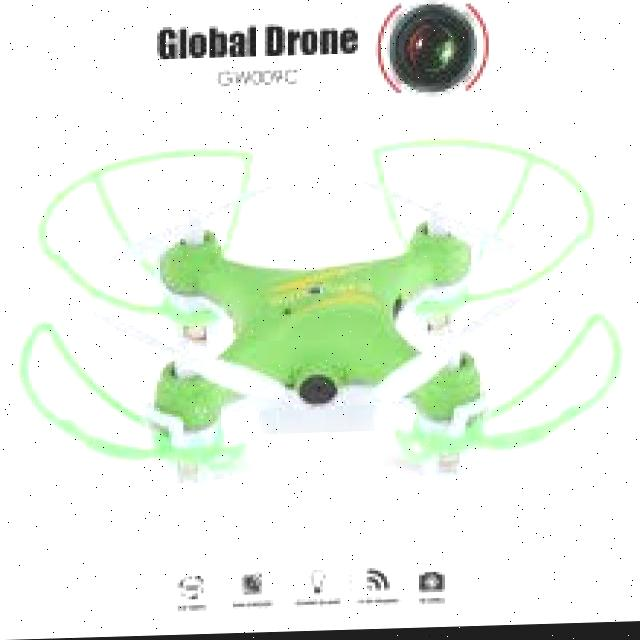drone: (0, 133, 640, 518)
